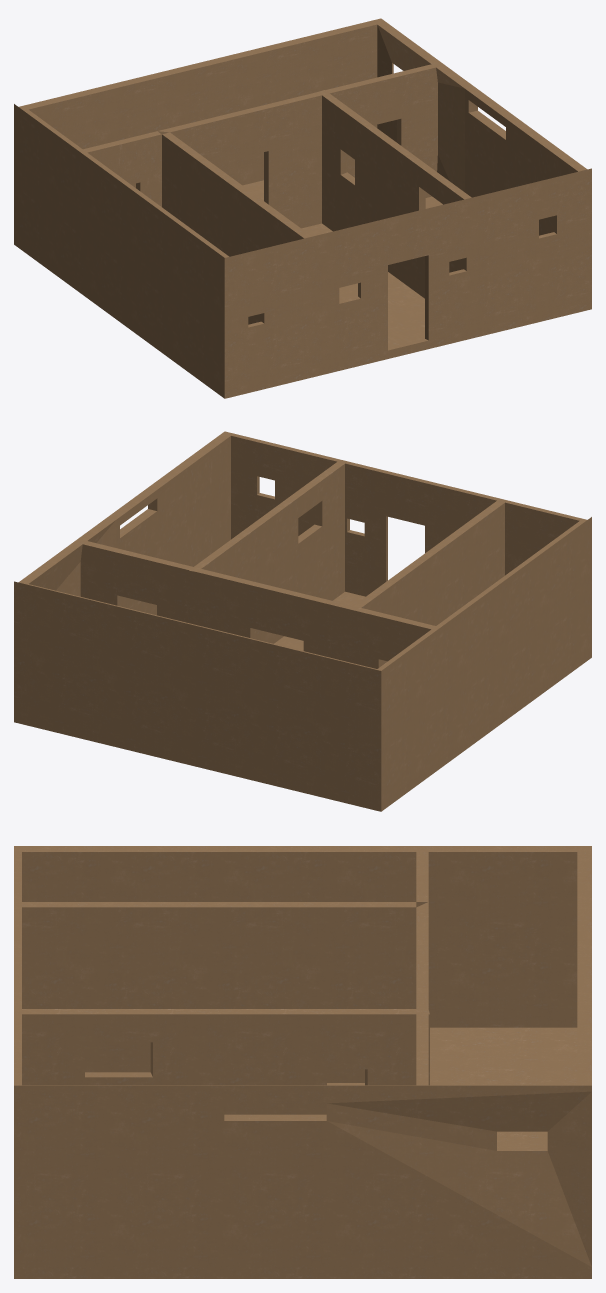
The model's file is complex_hut.glb.
The picture shows the model from 3 angles, top to bottom: view 1: azimuth 30°, elevation 25°; view 2: azimuth 150°, elevation 25°; view 3: azimuth 270°, elevation 25°; orthographic projection. The views are drawn at different scales.
Parts seen in each view (by area): view 1: Cube; view 2: Cube; view 3: Cube.
Part boxes in pixels (x1=…): Cube: x1=14, y1=18, x2=591, y2=398; Cube: x1=14, y1=431, x2=591, y2=811; Cube: x1=14, y1=846, x2=591, y2=1278.
Size of the model in its own units: 9 by 3.3 by 8.95.
Materials: 1 (1 with a texture image).
